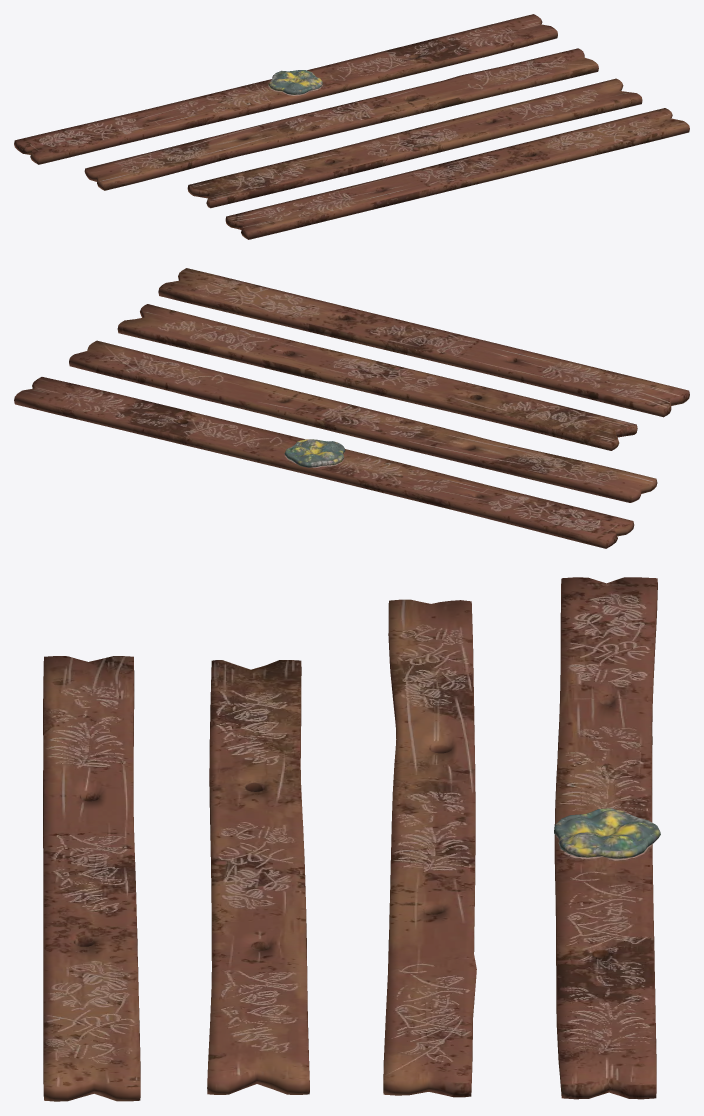
Rendered from bone.glb.
3 renders of one model, top to bottom at view 1: azimuth 30°, elevation 25°; view 2: azimuth 150°, elevation 25°; view 3: azimuth 270°, elevation 25°, orthographic. The views are drawn at different scales.
Visible parts, largest first — view 1: 24SO0015_24SO0015_0; view 2: 24SO0015_24SO0015_0; view 3: 24SO0015_24SO0015_0.
Boxes of the visible parts, bbox=[...] form: 24SO0015_24SO0015_0: bbox=[14, 14, 689, 239]; 24SO0015_24SO0015_0: bbox=[14, 268, 689, 548]; 24SO0015_24SO0015_0: bbox=[43, 577, 660, 1101].
Bounding box in the file's own units: 0.2019 × 0.00526 × 0.1029.
Materials: 1 (1 with a texture image).
